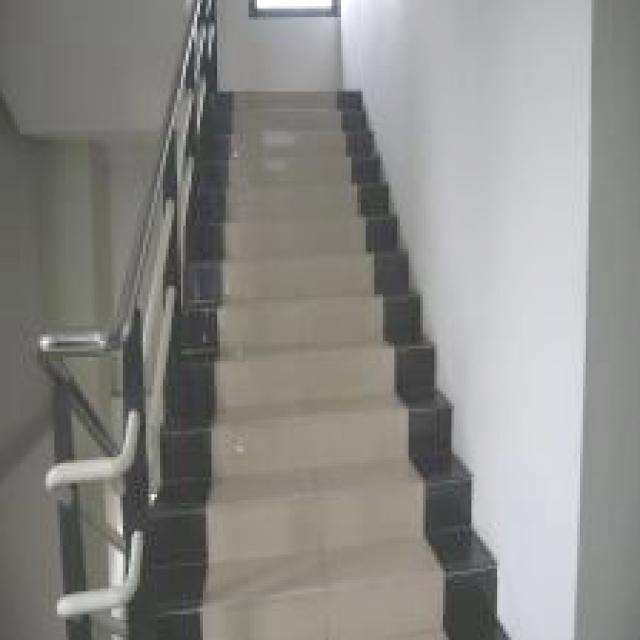upstair: (198, 112, 433, 640)
